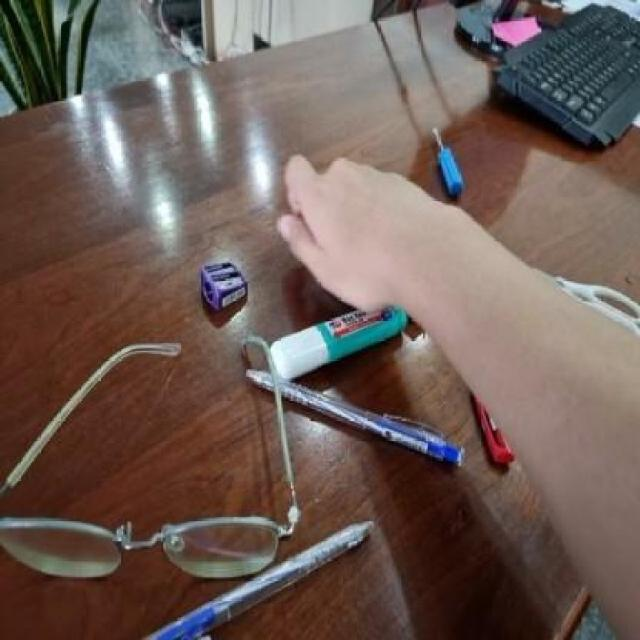not trash: (0, 326, 300, 571), (119, 511, 386, 640), (242, 351, 468, 477), (247, 304, 428, 376), (416, 112, 475, 196), (184, 253, 259, 312)
